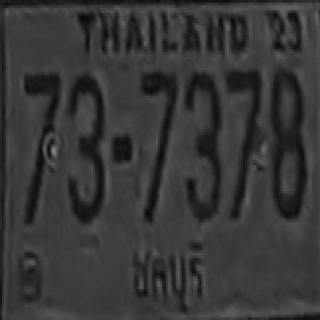N03: (64, 74, 104, 220), (183, 71, 220, 218)
N07: (139, 70, 177, 212), (226, 67, 260, 217), (225, 67, 261, 206), (22, 70, 59, 165)
N08: (269, 67, 306, 217)
P13: (124, 236, 210, 315)
